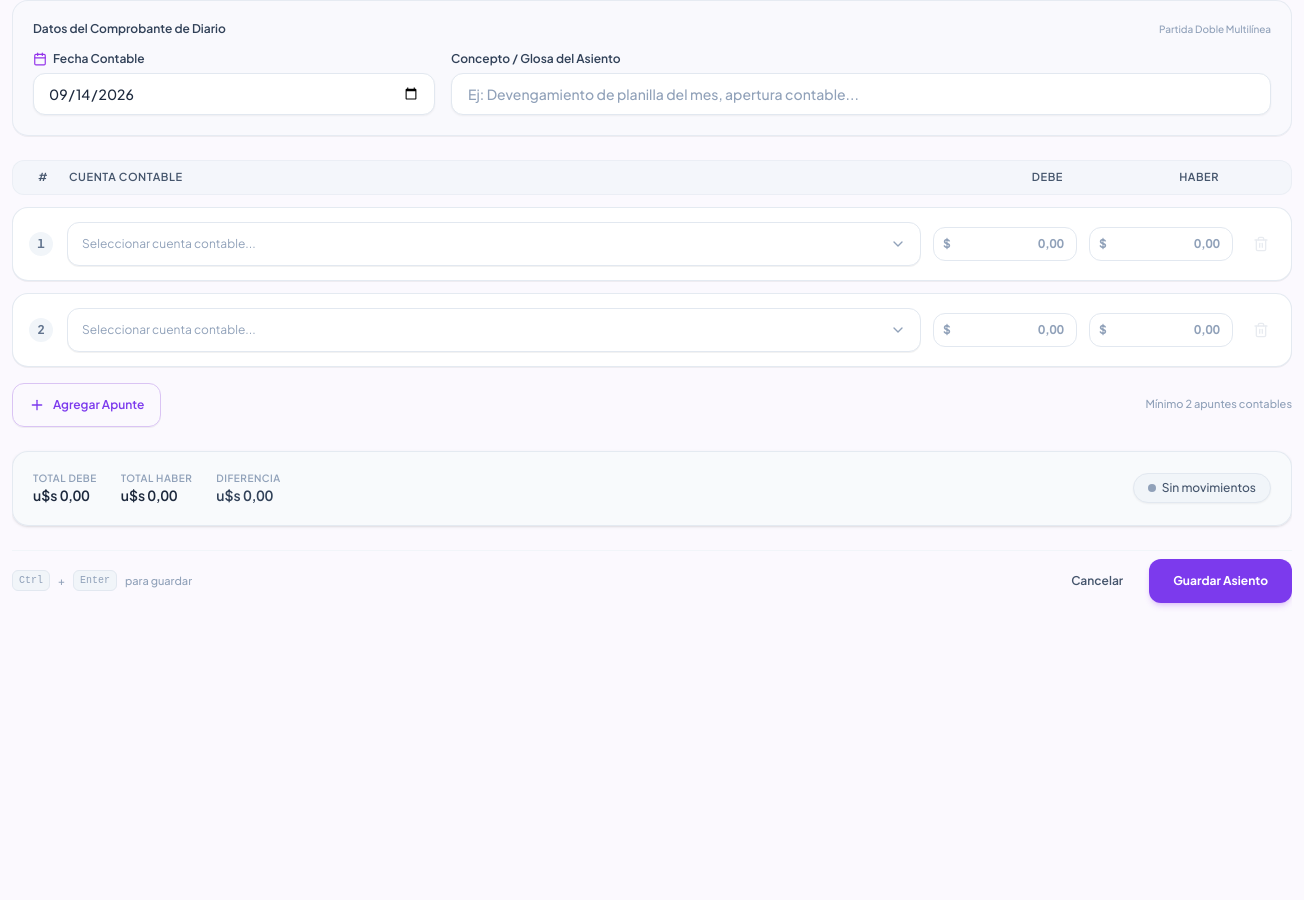
Test: User Story 2: Free Journal Entry Grid (T011) › 2. FreeJournalEntryGrid Component (T013) › auto-fills difference on new line when Line 1 has Debit = 100
Type "100" into the field named "debe" at (1005, 244), box [933, 226, 1077, 260]
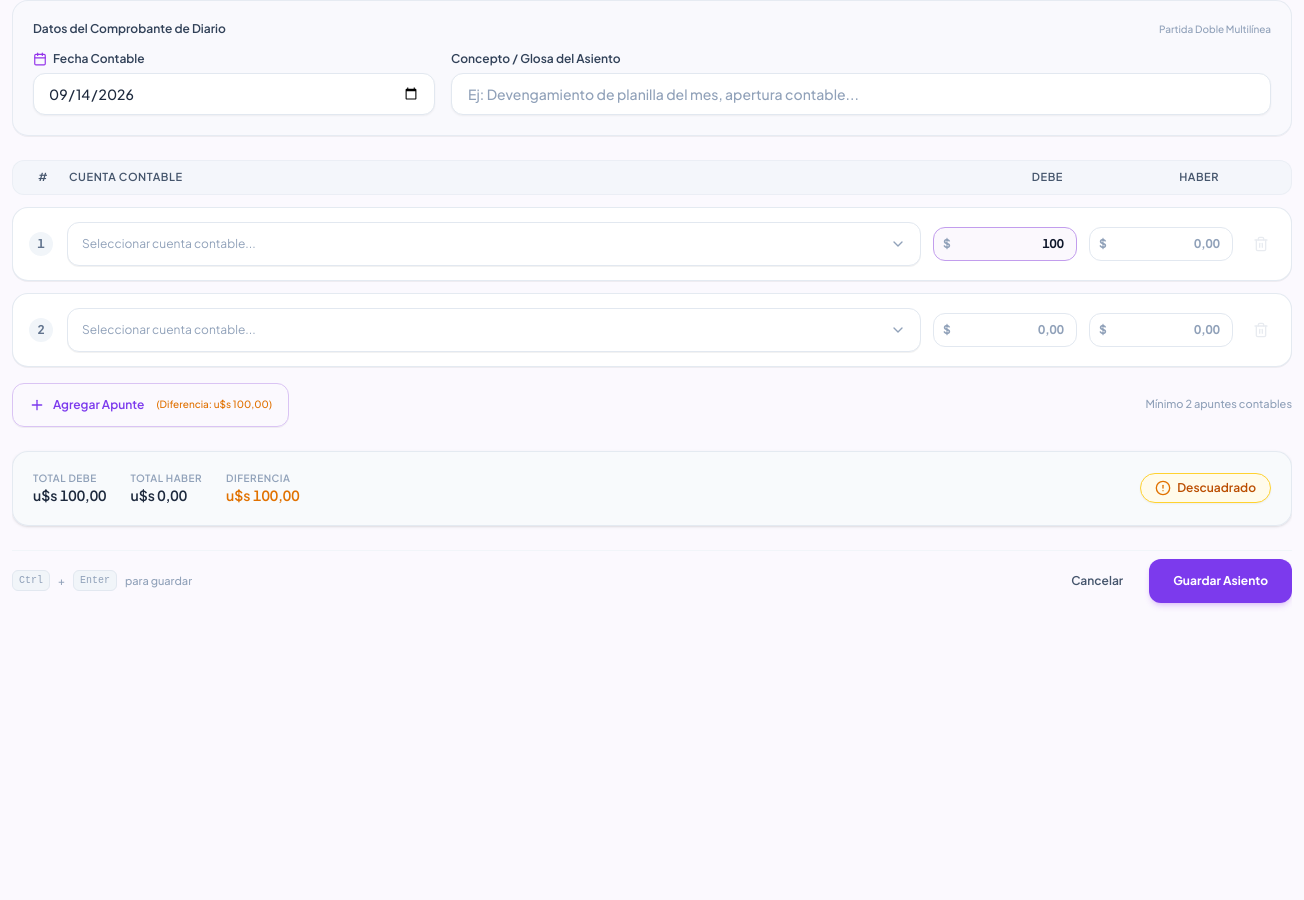
Click the button "Agregar Apunte (Diferencia: u$s 100,00)" at (99, 404), box [12, 382, 289, 426]
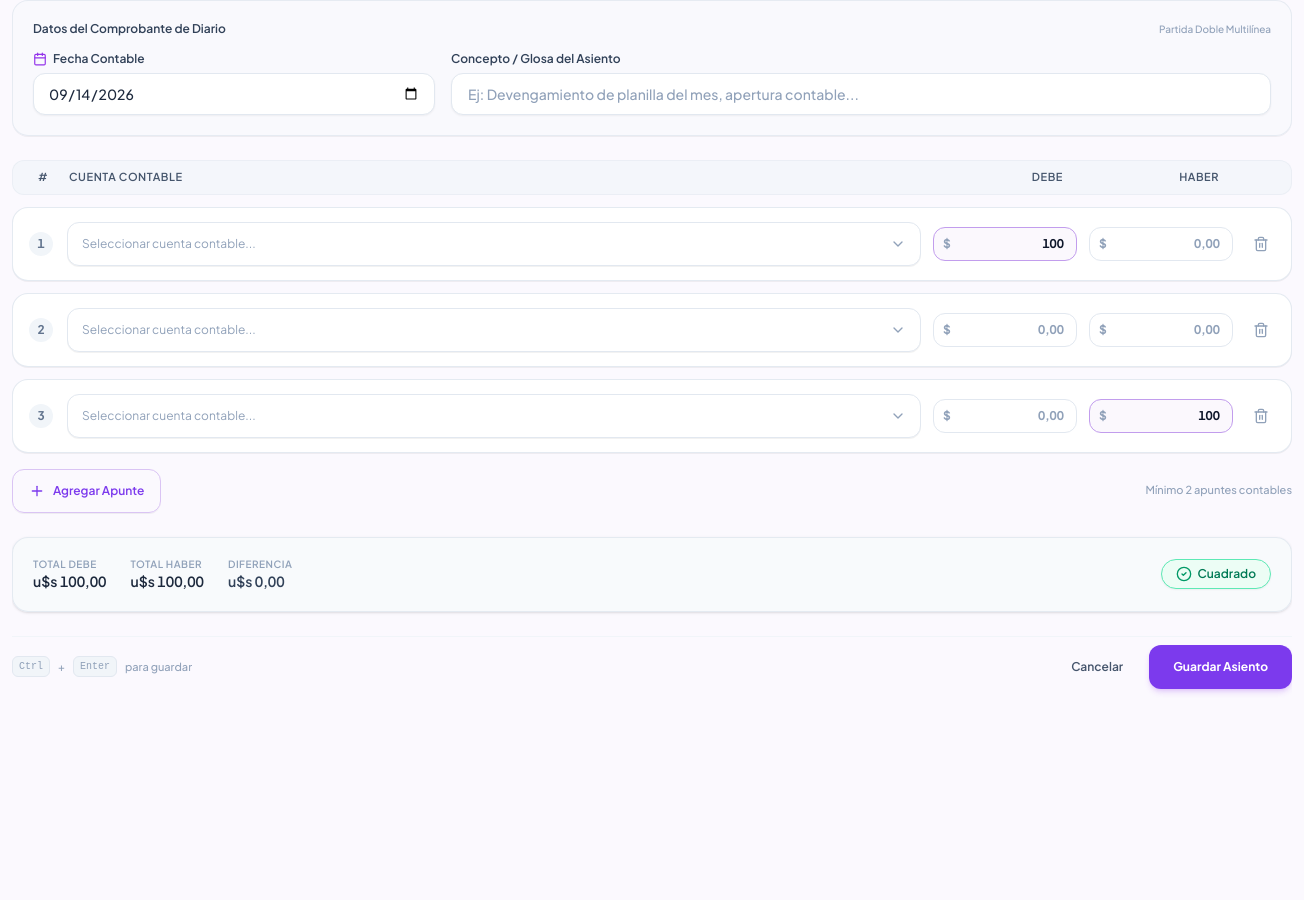
expect the number of fields named "haber" is 3: met, box [1089, 226, 1233, 260]; [1089, 312, 1233, 346]; [1089, 398, 1233, 432]
expect the field named "haber" holds "100": met, box [1089, 398, 1233, 432]
